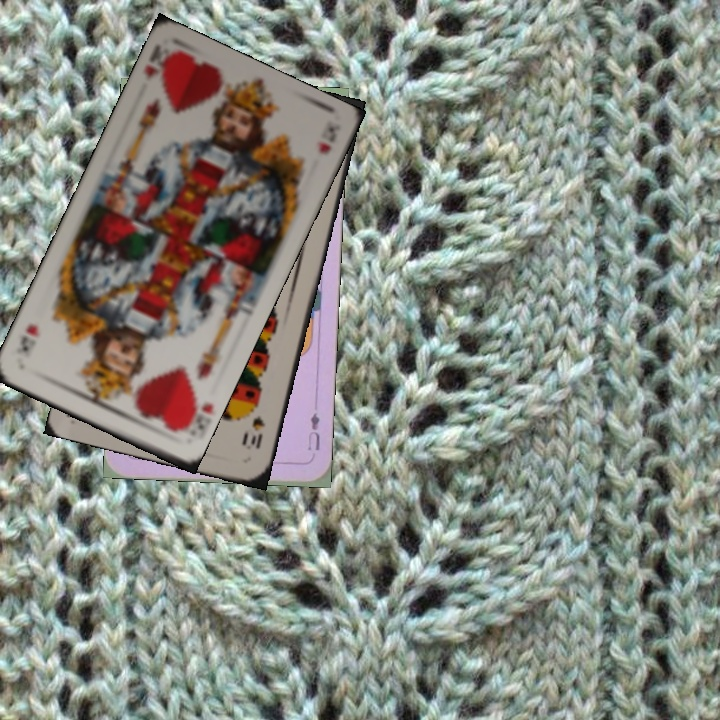EU: (303, 409, 323, 453)
HK: (176, 393, 216, 433), (140, 41, 164, 84)
S10: (246, 412, 267, 452)
